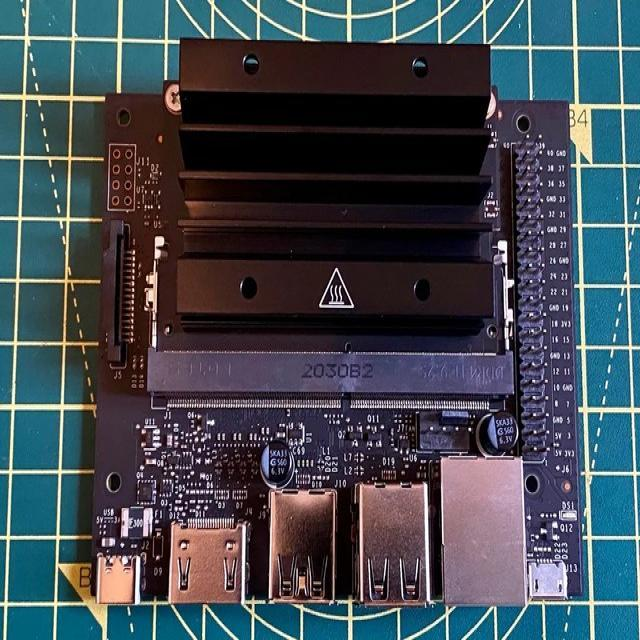Jetson Nano: (92, 38, 583, 606)
